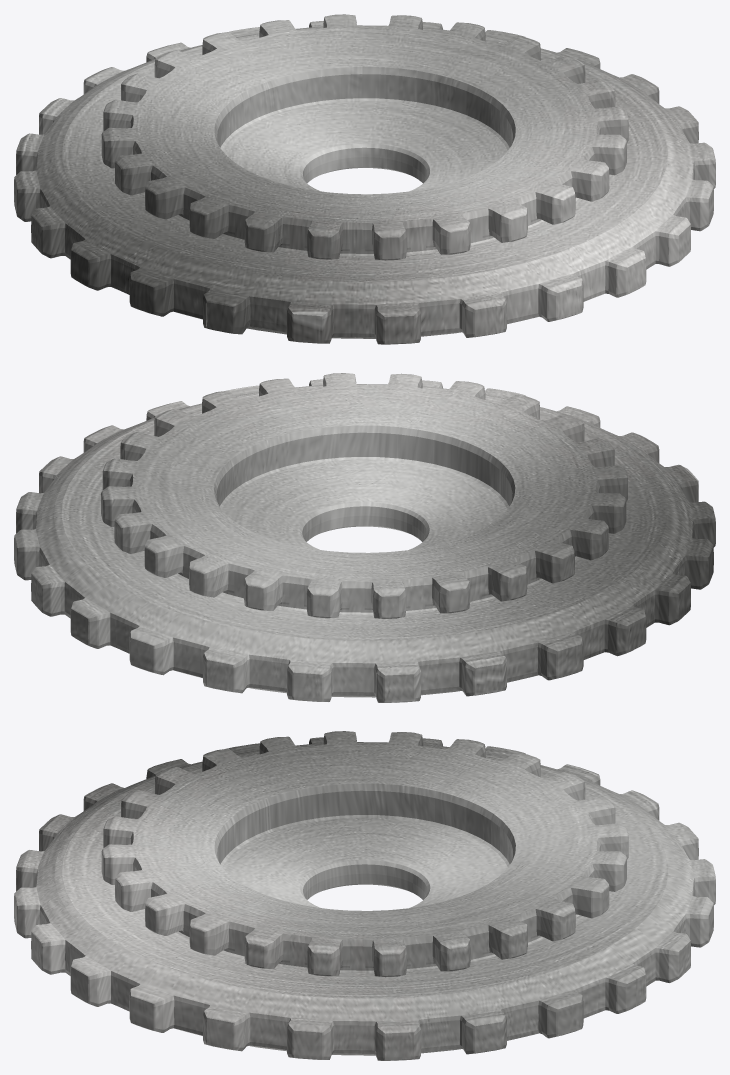
File: gear.fbx
3 renders of one model, top to bottom at view 1: azimuth 30°, elevation 25°; view 2: azimuth 150°, elevation 25°; view 3: azimuth 270°, elevation 25°, orthographic.
Parts seen in each view (by area): view 1: Torus; view 2: Torus; view 3: Torus.
Boxes of the visible parts, box(x1,y1,x2,y2) form: Torus: box(14, 14, 715, 344); Torus: box(14, 373, 715, 702); Torus: box(14, 731, 715, 1060).
Bounding box in the file's own units: 259 × 35.58 × 259.
